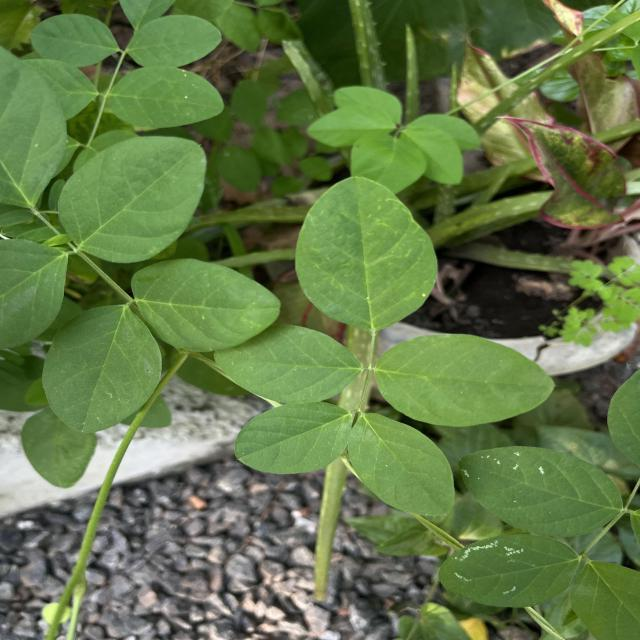Clitoria ternatea: (292, 174, 439, 332), (56, 134, 210, 264), (372, 331, 558, 428), (39, 302, 164, 435), (128, 256, 284, 354), (458, 444, 624, 536), (211, 320, 365, 406), (346, 410, 458, 518), (437, 530, 581, 608), (232, 398, 353, 476)
